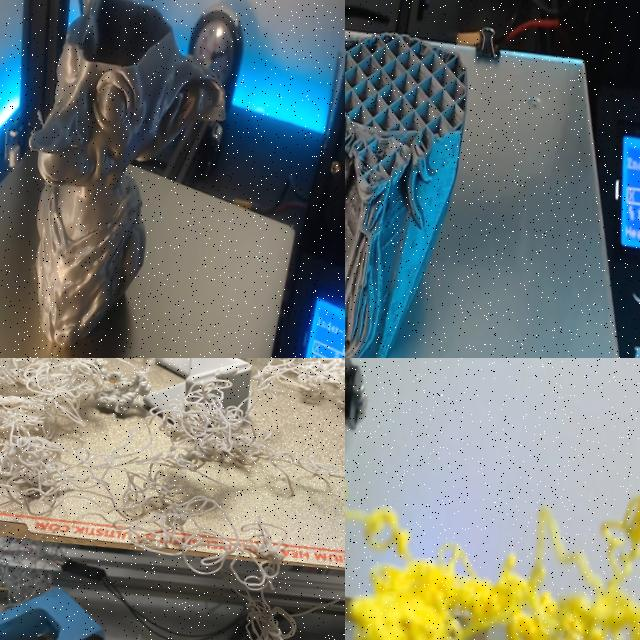spaghetti: (345, 486, 640, 640), (198, 358, 345, 484), (219, 552, 300, 640), (0, 541, 64, 611)
